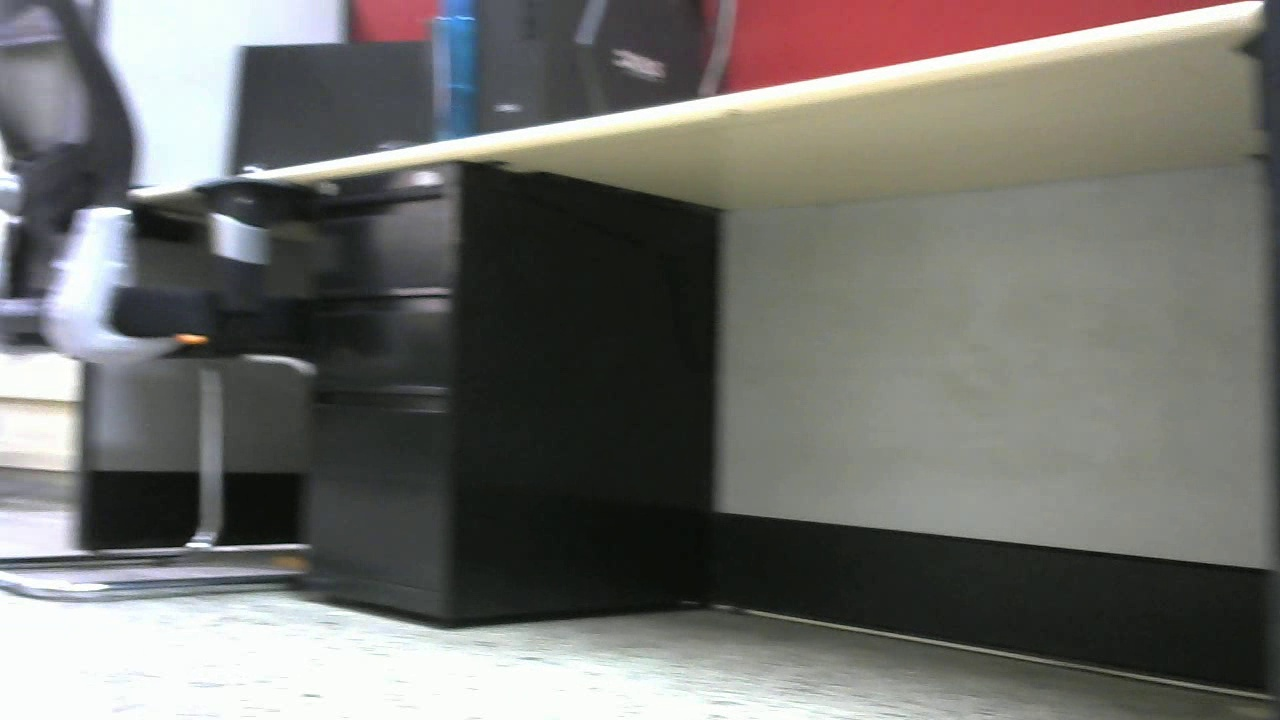chair: (1, 1, 360, 598)
